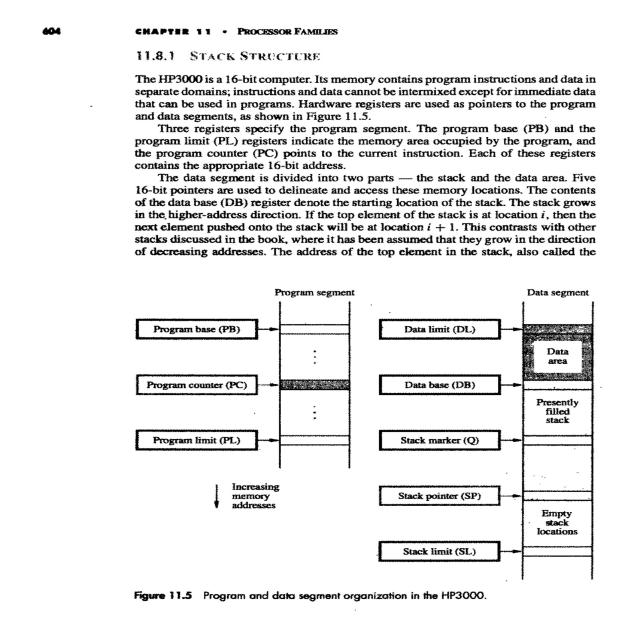diagram: (86, 270, 620, 621)
